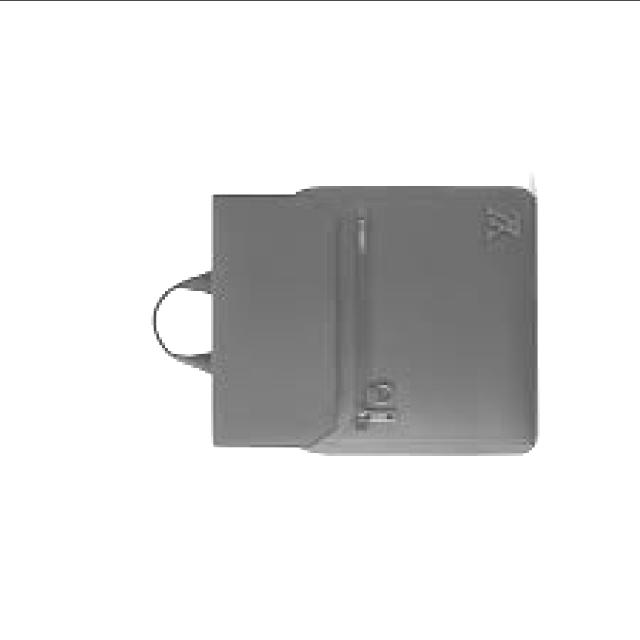backpack: (149, 186, 539, 459)
